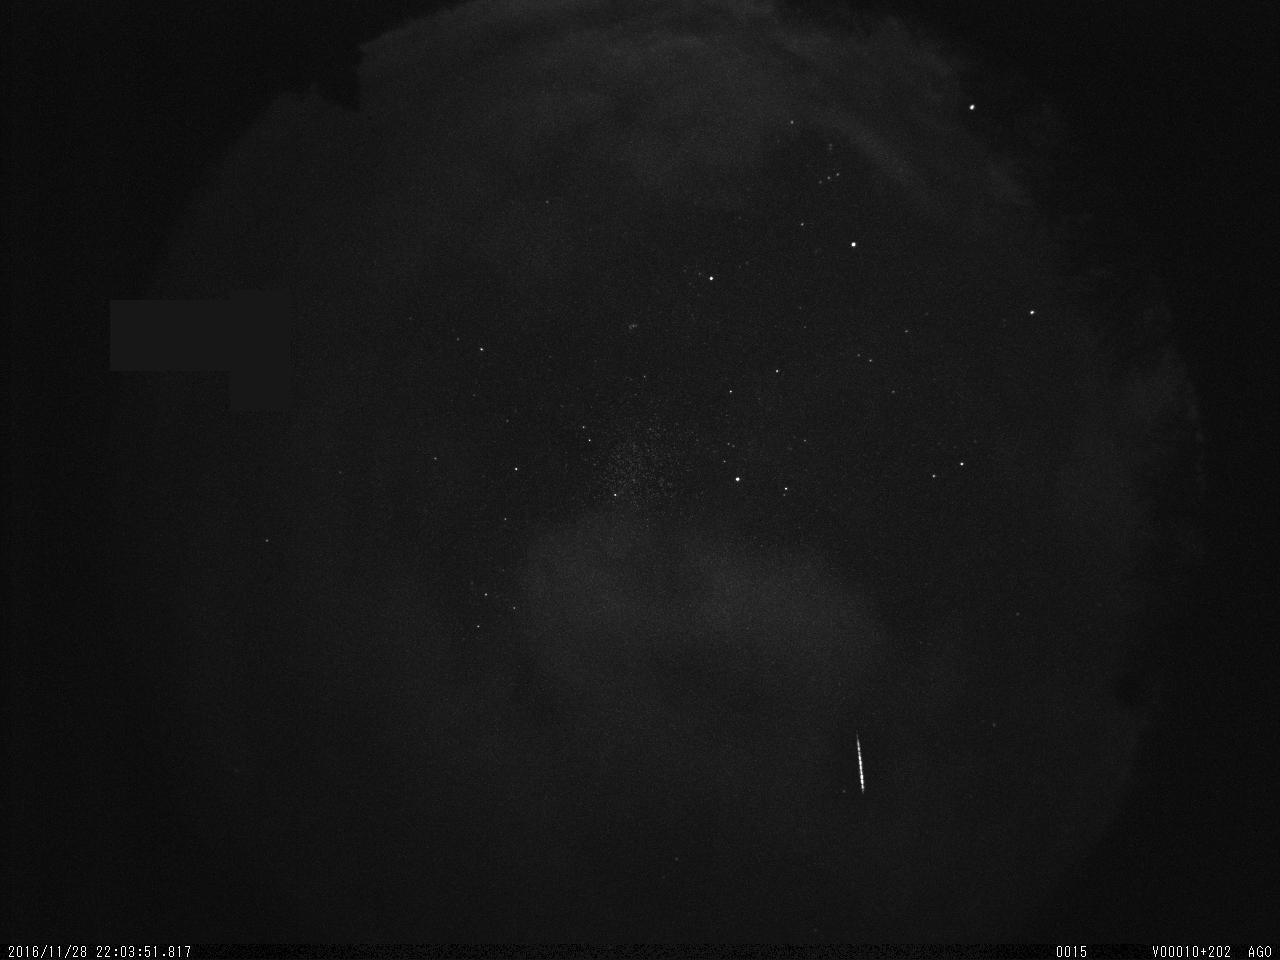meteor: (848, 732, 876, 794)
